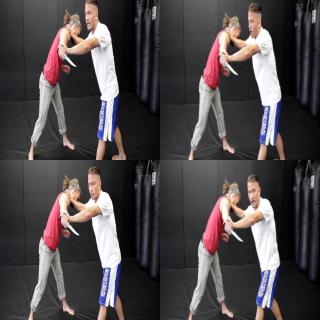knife: (54, 44, 78, 68), (222, 219, 244, 244), (217, 53, 239, 77), (58, 214, 80, 238)
